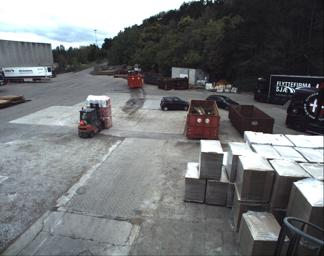rockwool_batts: (85, 92, 113, 126)
